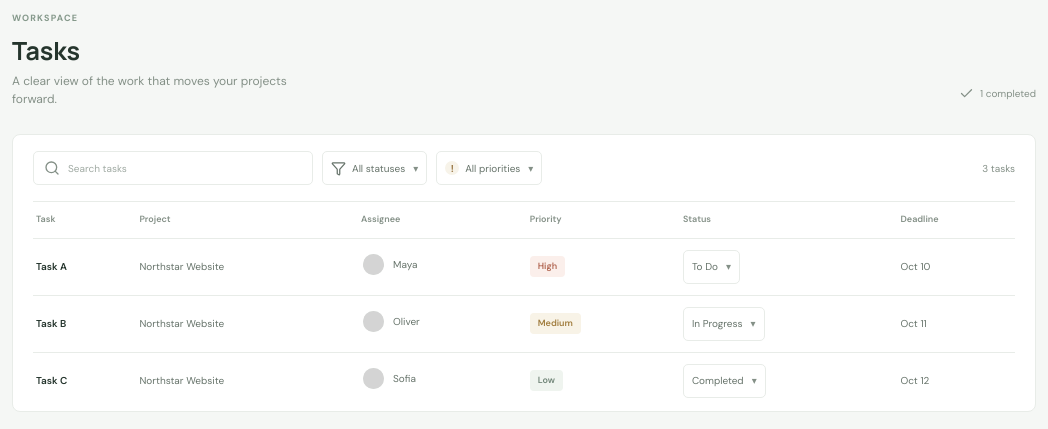
Test case: Tasks search and filters › combines search and status filters
Check: the text "Task A" is shown, box [36, 260, 67, 273]
Type "Task" into the field labelled "Search tasks" at {"x": 185, "y": 168}, box [68, 160, 302, 176]
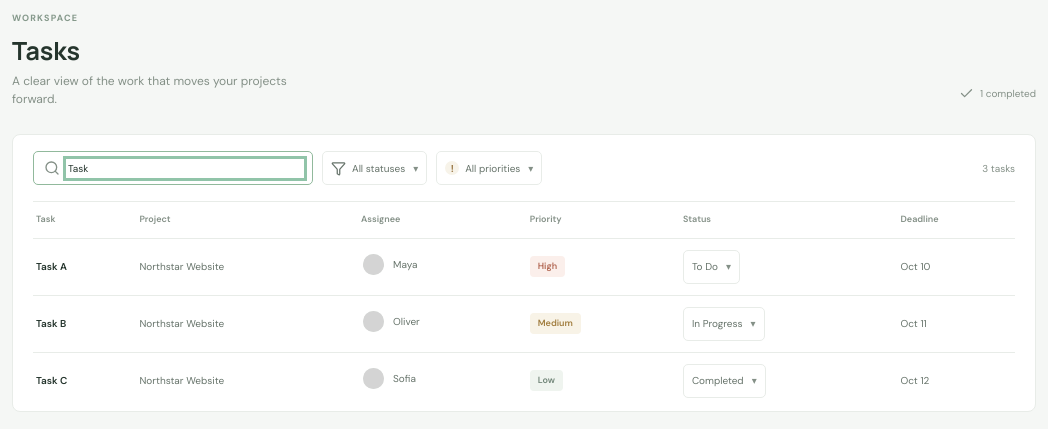
Click the button with aria-label "Filter tasks by status" at {"x": 375, "y": 168}, box [322, 151, 427, 185]
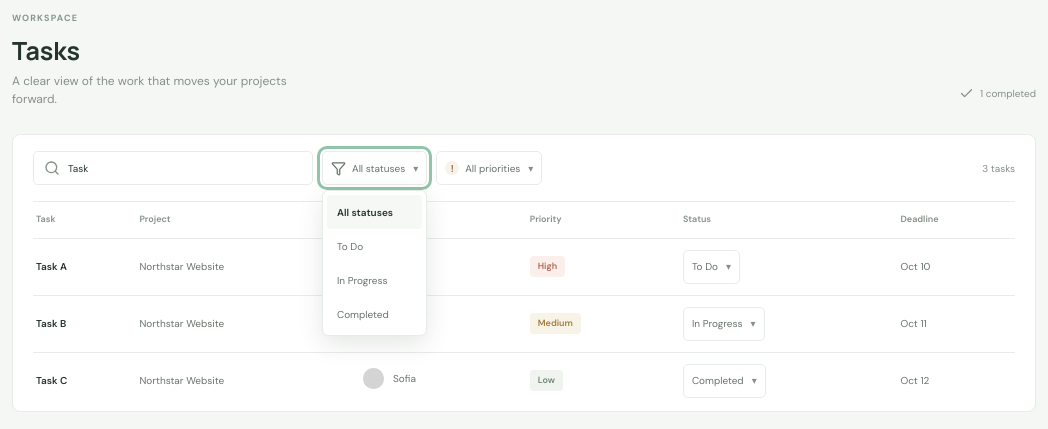
Click the option "Completed" at {"x": 363, "y": 314}, box [337, 308, 389, 320]
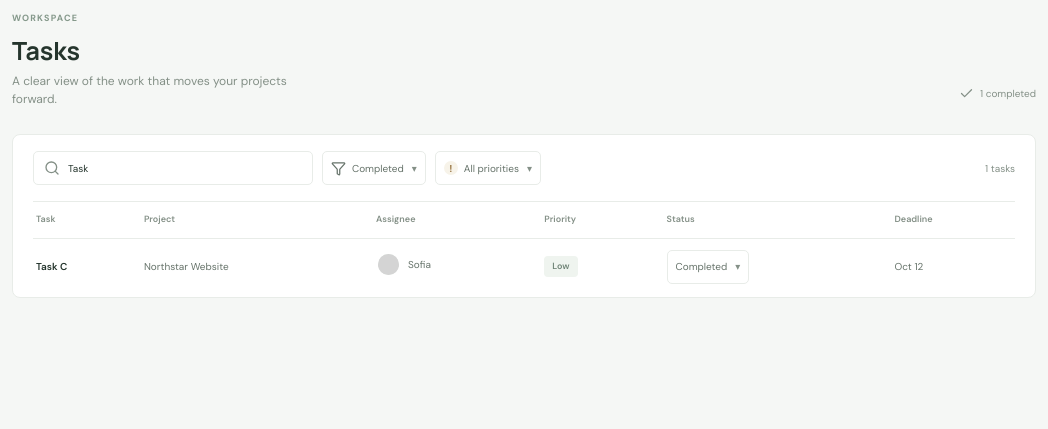
Check: the text "Task C" is shown, box [36, 260, 67, 273]
Check: the text "Task A" is gone
Check: the text "Task B" is gone
